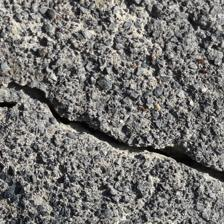Crack: (8, 40, 214, 141)
